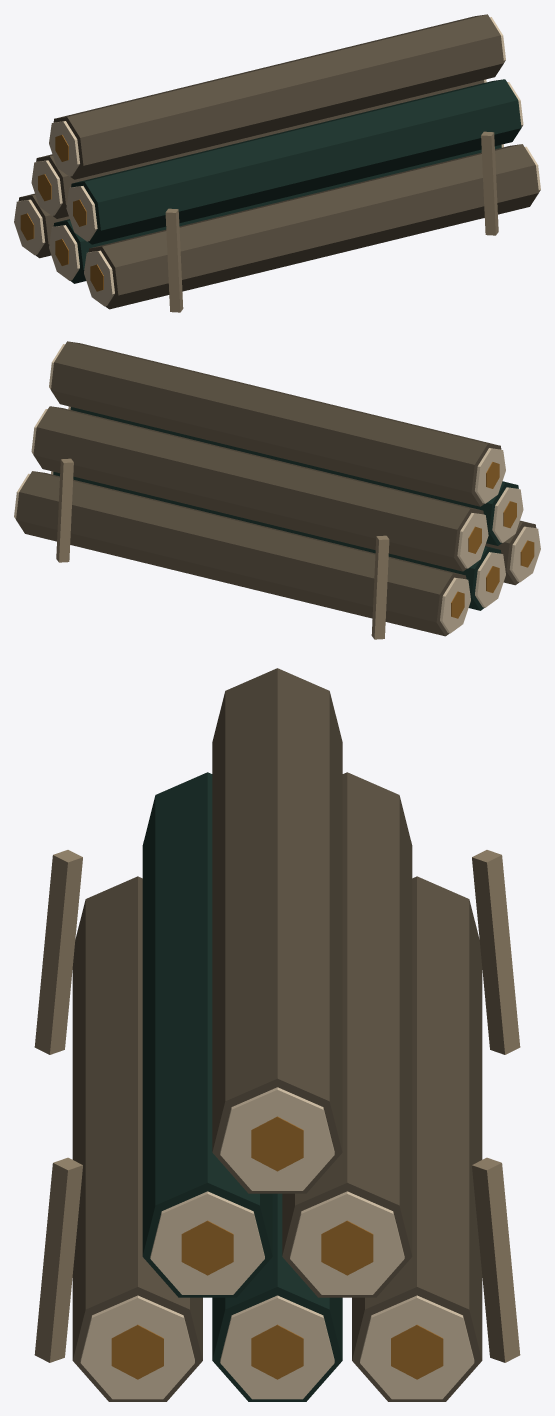
File: log_pile.glb
The picture shows the model from 3 angles, top to bottom: view 1: azimuth 30°, elevation 25°; view 2: azimuth 150°, elevation 25°; view 3: azimuth 270°, elevation 25°; orthographic projection. The views are drawn at different scales.
Parts seen in each view (by area): view 1: driftwood_d55, pine_d50, driftwood_l20, driftwood_d25, ember_d35; view 2: driftwood_d55, driftwood_l20, pine_d50, driftwood_d25, ember_d35; view 3: driftwood_d55, driftwood_l20, pine_d50, driftwood_d25, ember_d35.
Boxes of the visible parts, x1=… form: driftwood_d55: x1=18, y1=14, x2=538, y2=309; pine_d50: x1=53, y1=79, x2=521, y2=283; driftwood_l20: x1=14, y1=17, x2=540, y2=306; driftwood_d25: x1=165, y1=131, x2=498, y2=312; ember_d35: x1=20, y1=135, x2=103, y2=291; driftwood_d55: x1=16, y1=341, x2=536, y2=636; driftwood_l20: x1=14, y1=344, x2=540, y2=633; pine_d50: x1=53, y1=407, x2=518, y2=610; driftwood_d25: x1=56, y1=458, x2=389, y2=639; ember_d35: x1=451, y1=462, x2=534, y2=618; driftwood_d55: x1=72, y1=668, x2=482, y2=1401; driftwood_l20: x1=80, y1=1087, x2=474, y2=1399; pine_d50: x1=142, y1=772, x2=342, y2=1401; driftwood_d25: x1=34, y1=850, x2=520, y2=1362; ember_d35: x1=111, y1=1116, x2=443, y2=1379.
Size of the model in its own units: 3.28 by 1.2 by 1.6.
